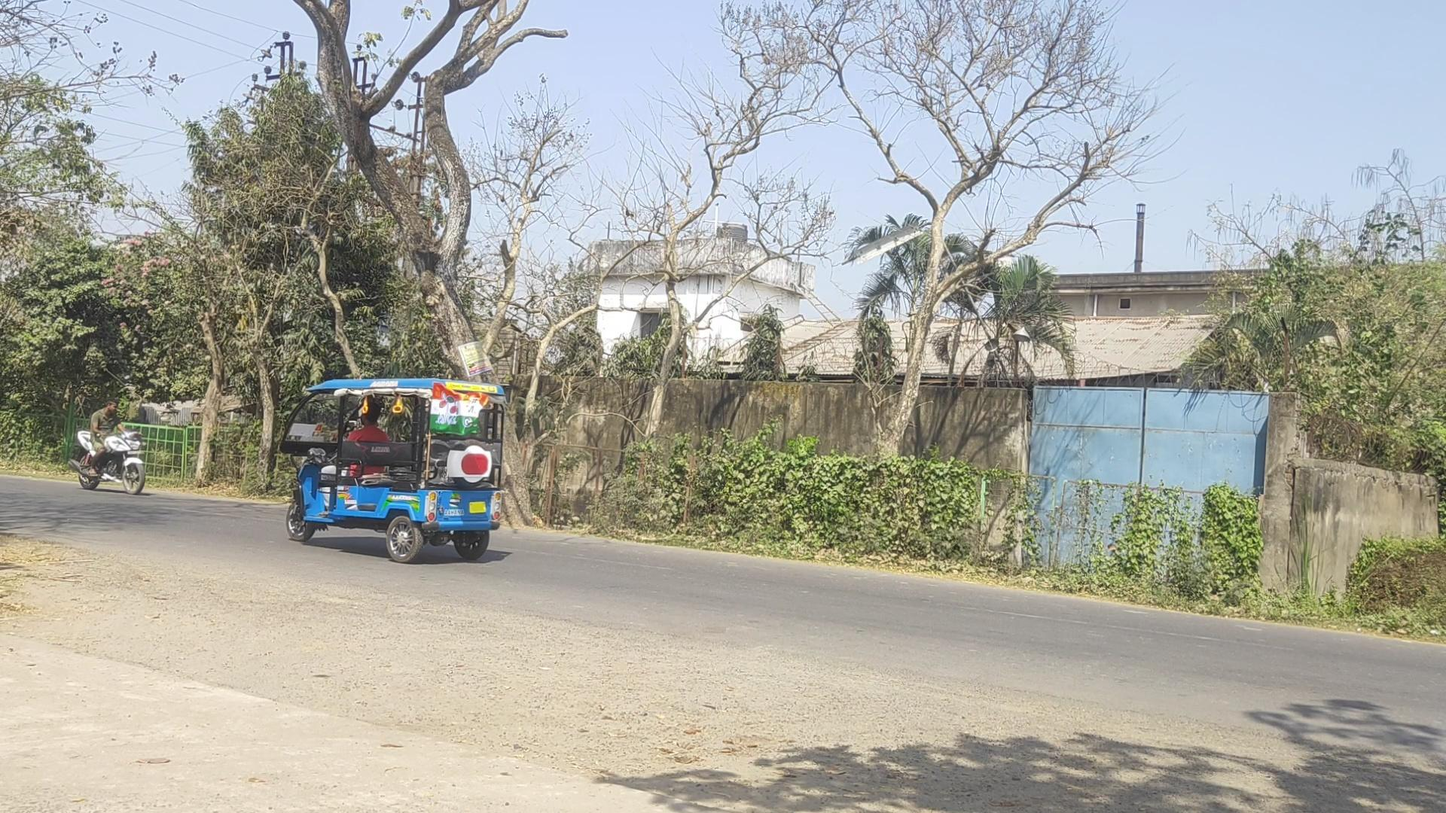Auto: (279, 378, 508, 563)
bike: (69, 400, 145, 495)
